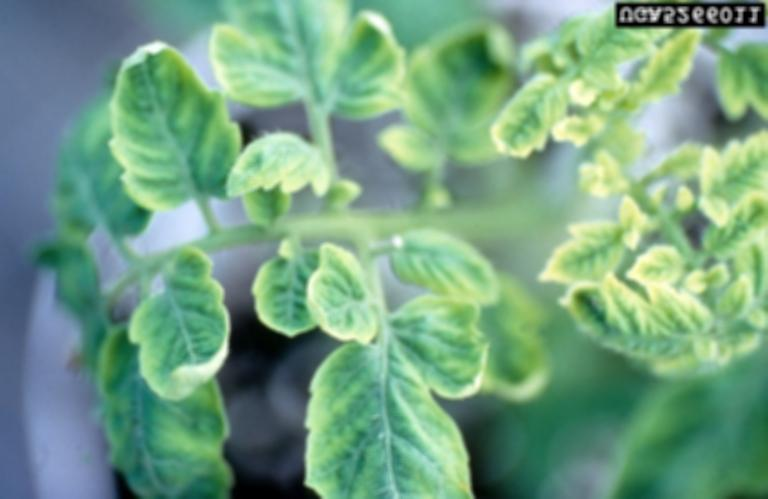Tomato leaf yellow virus: (301, 346, 492, 496), (100, 34, 246, 209), (209, 9, 406, 121), (129, 246, 234, 397), (380, 292, 499, 417), (379, 227, 528, 304), (488, 58, 586, 170), (240, 226, 328, 338), (302, 241, 391, 342), (224, 132, 335, 211), (537, 215, 641, 290)
